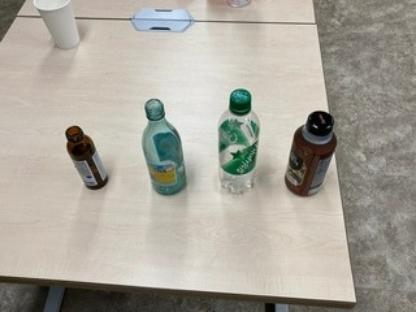Glass Bottle: (141, 98, 187, 198)
Others: (282, 105, 338, 201), (64, 127, 113, 198)
Plastic Bottle: (217, 88, 259, 196)
